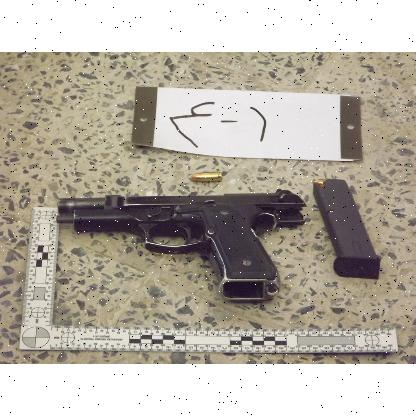gun: (56, 188, 306, 302)
